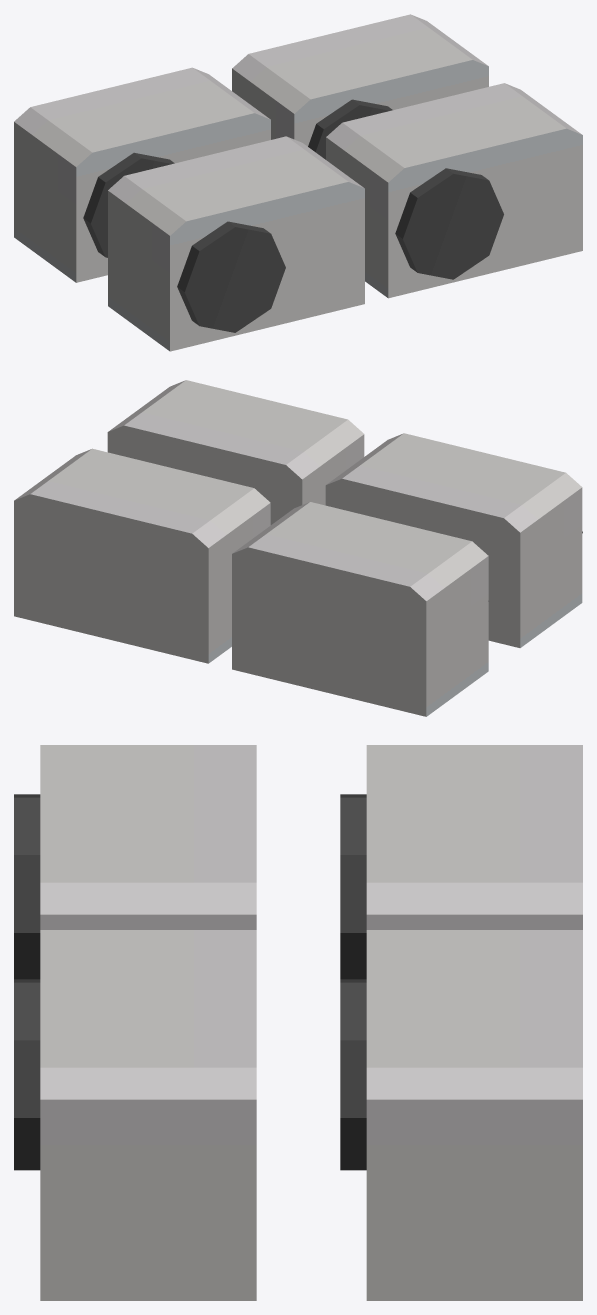
The model's file is AC Unitx4.glb.
3 renders of one model, top to bottom at view 1: azimuth 30°, elevation 25°; view 2: azimuth 150°, elevation 25°; view 3: azimuth 270°, elevation 25°, orthographic. The views are drawn at different scales.
Parts seen in each view (by area): view 1: AC_Unitx4; view 2: AC_Unitx4; view 3: AC_Unitx4.
Boxes of the visible parts, x1,y1,x2,y2 form: AC_Unitx4: [14, 14, 582, 351]; AC_Unitx4: [14, 380, 582, 716]; AC_Unitx4: [14, 745, 582, 1300].
Size of the model in its own units: 1.45 by 0.4241 by 0.9967.
Materials: 1 (1 with a texture image).
